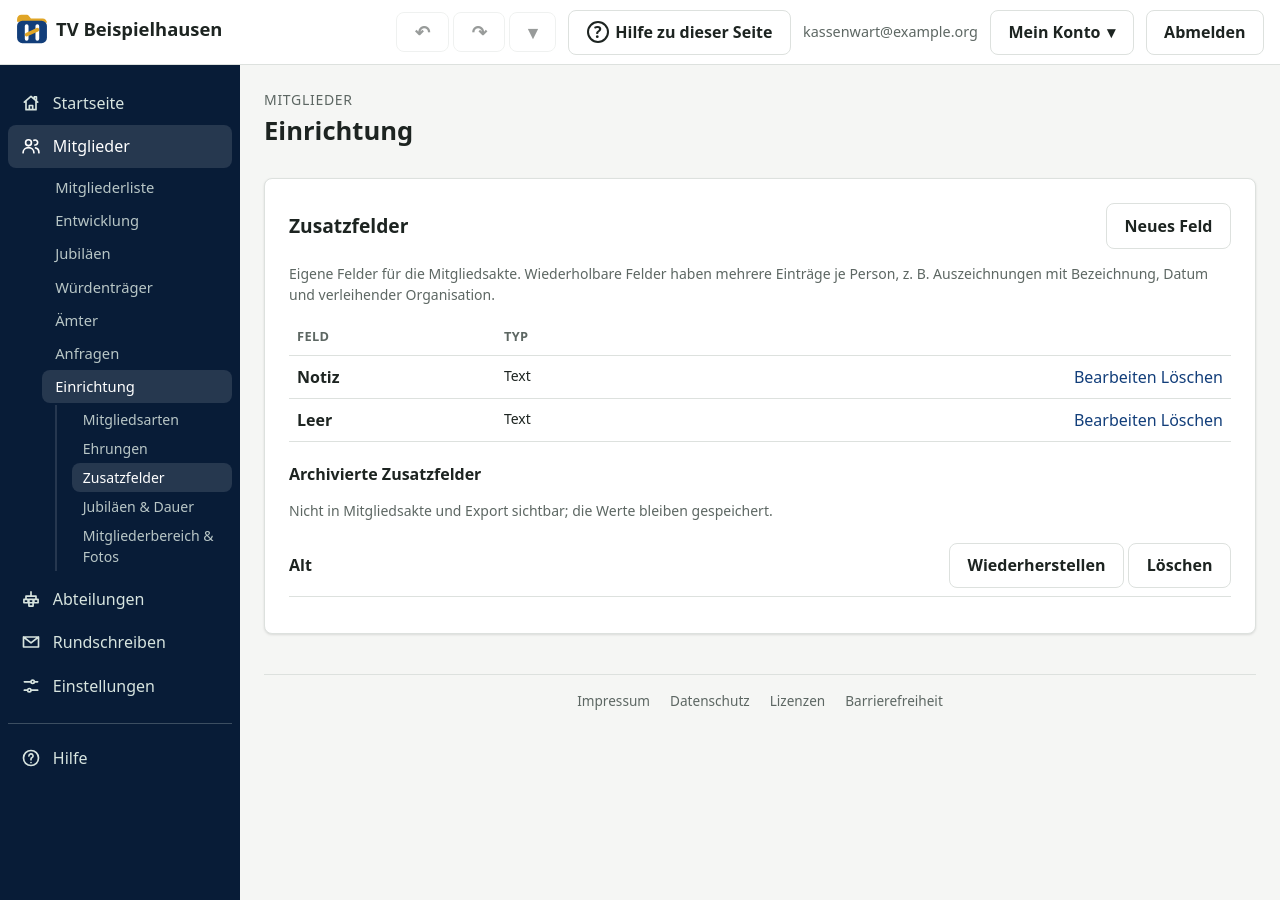
Test: Zusatzfelder löschen › archiviert, löscht unbenutzte Felder und stellt wieder her
Step 1. Click the button with aria-label "Notiz löschen" → (1192, 377), box [1161,365,1223,389]
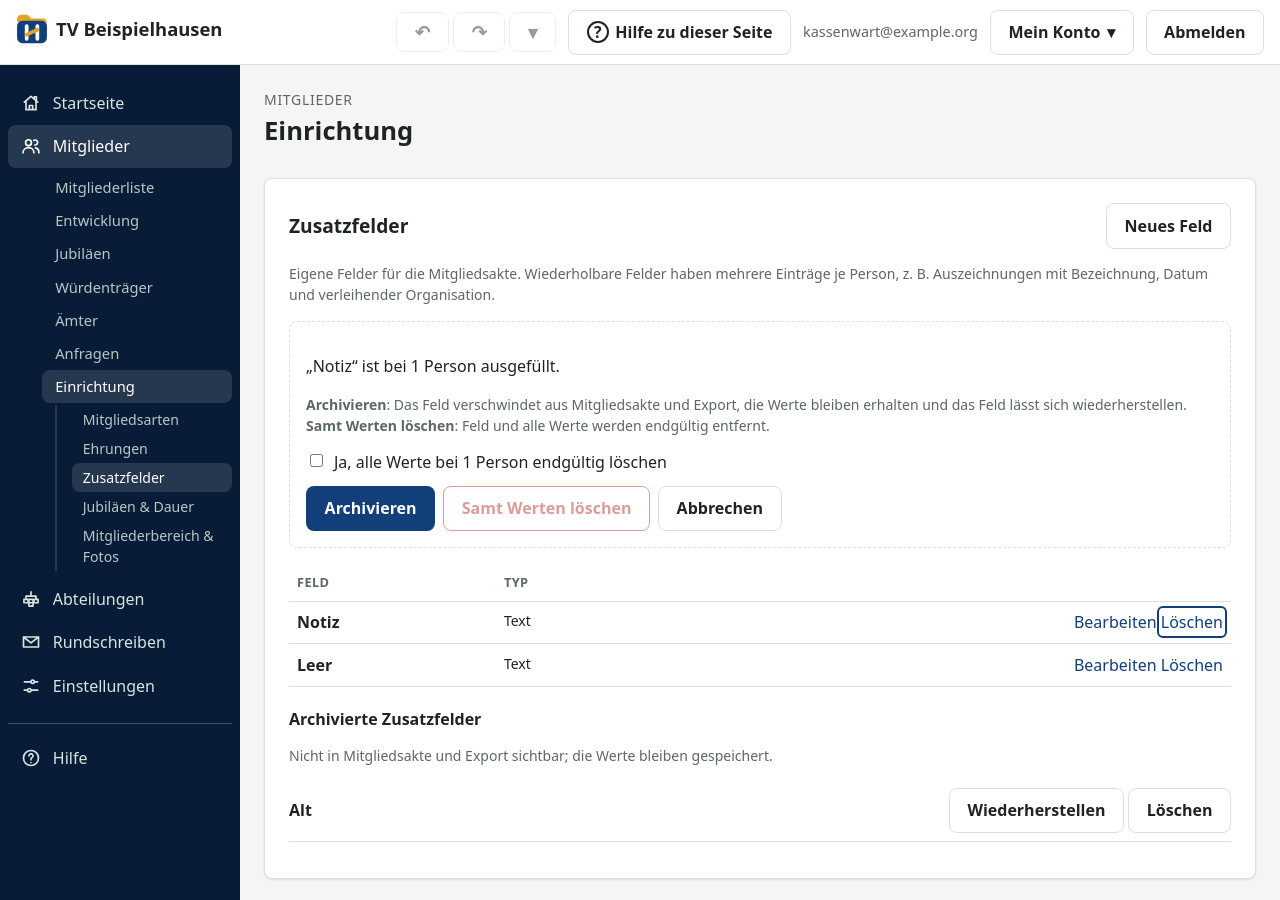
Step 2. Click the button "Archivieren" → (371, 508), box [306,486,435,531]
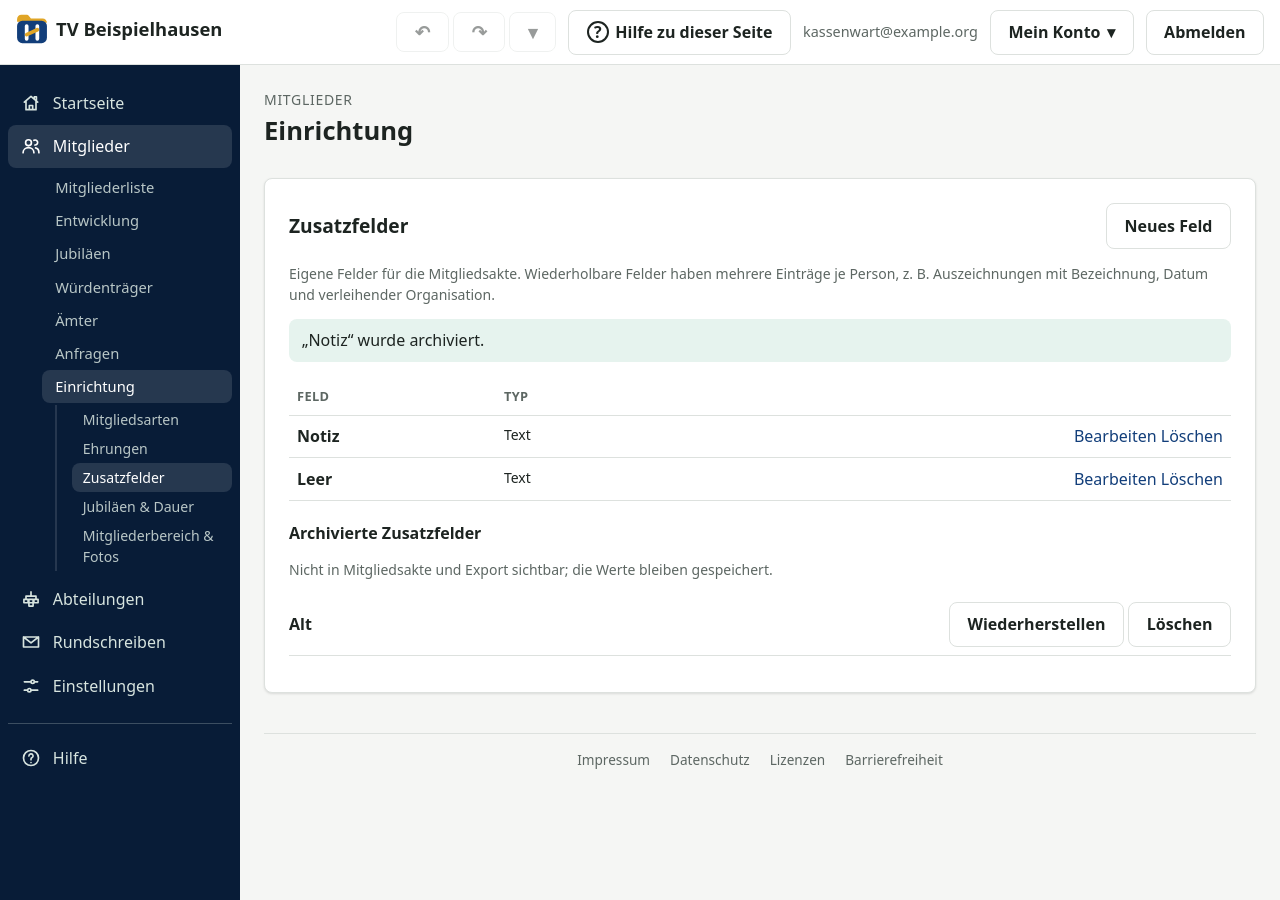
Expected: the text "„Notiz“ wurde archiviert." is shown, [289,318,1231,362]
Step 3. Click the button with aria-label "Leer löschen" → (1192, 479), box [1161,467,1223,491]
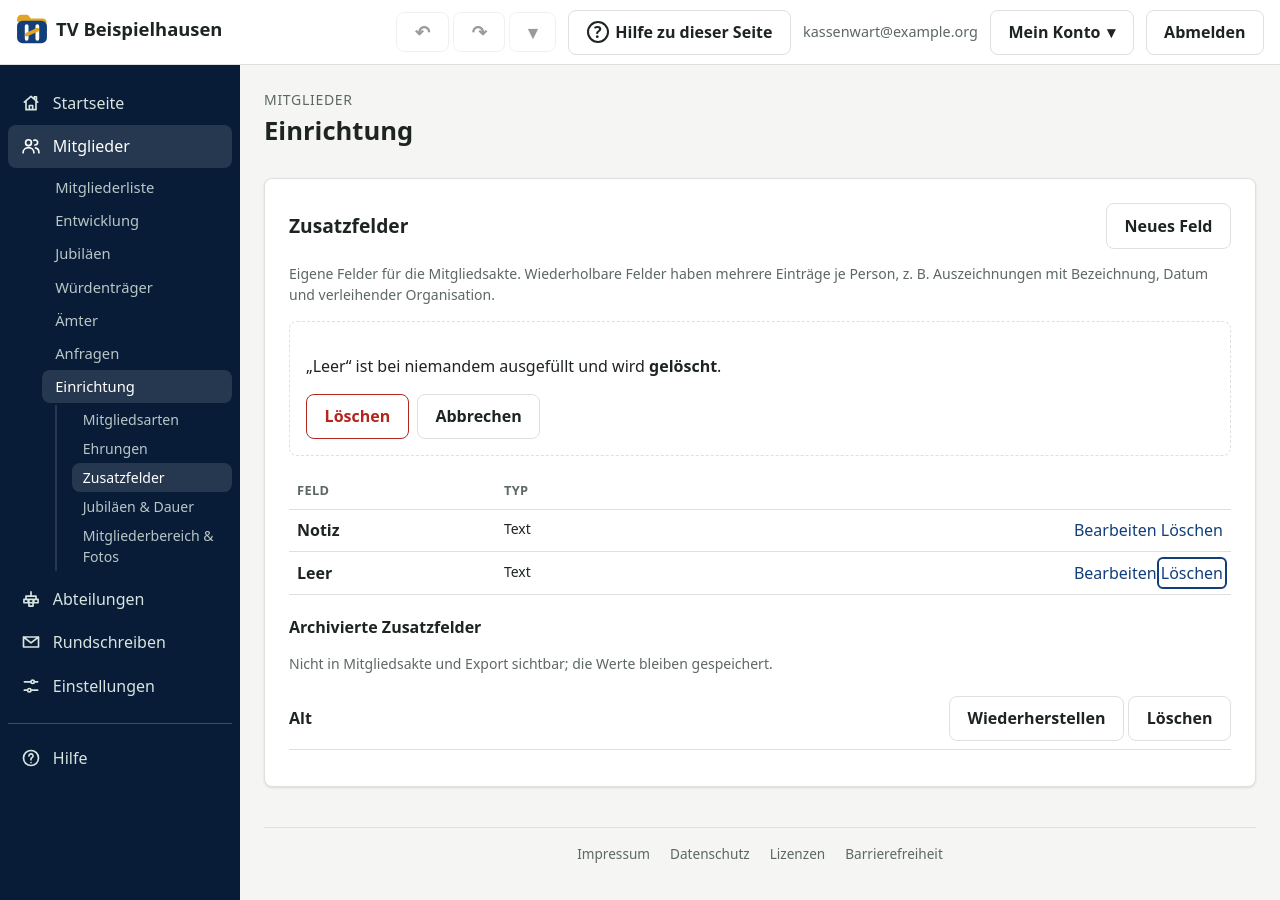
Expected: the text "„Leer“ ist bei niemandem ausgefüllt und wird gelöscht." is shown, [306,354,721,376]
Step 4. Click the button "Löschen" below "gelöscht" → (357, 416), box [306,394,409,439]
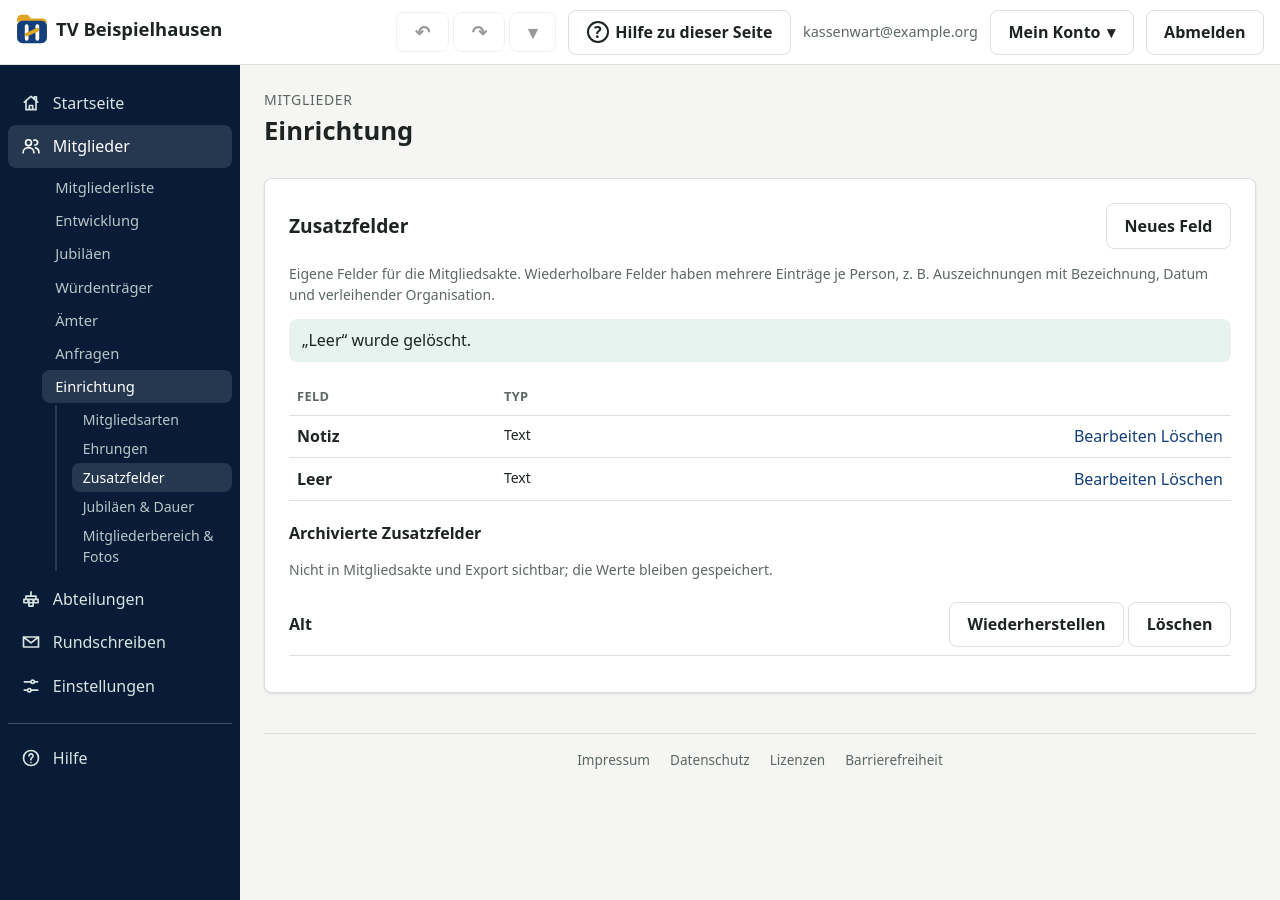
Expected: the text "„Leer“ wurde gelöscht." is shown, [289,318,1231,362]
Step 5. Click the button "Wiederherstellen" → (1036, 624), box [949,602,1124,647]
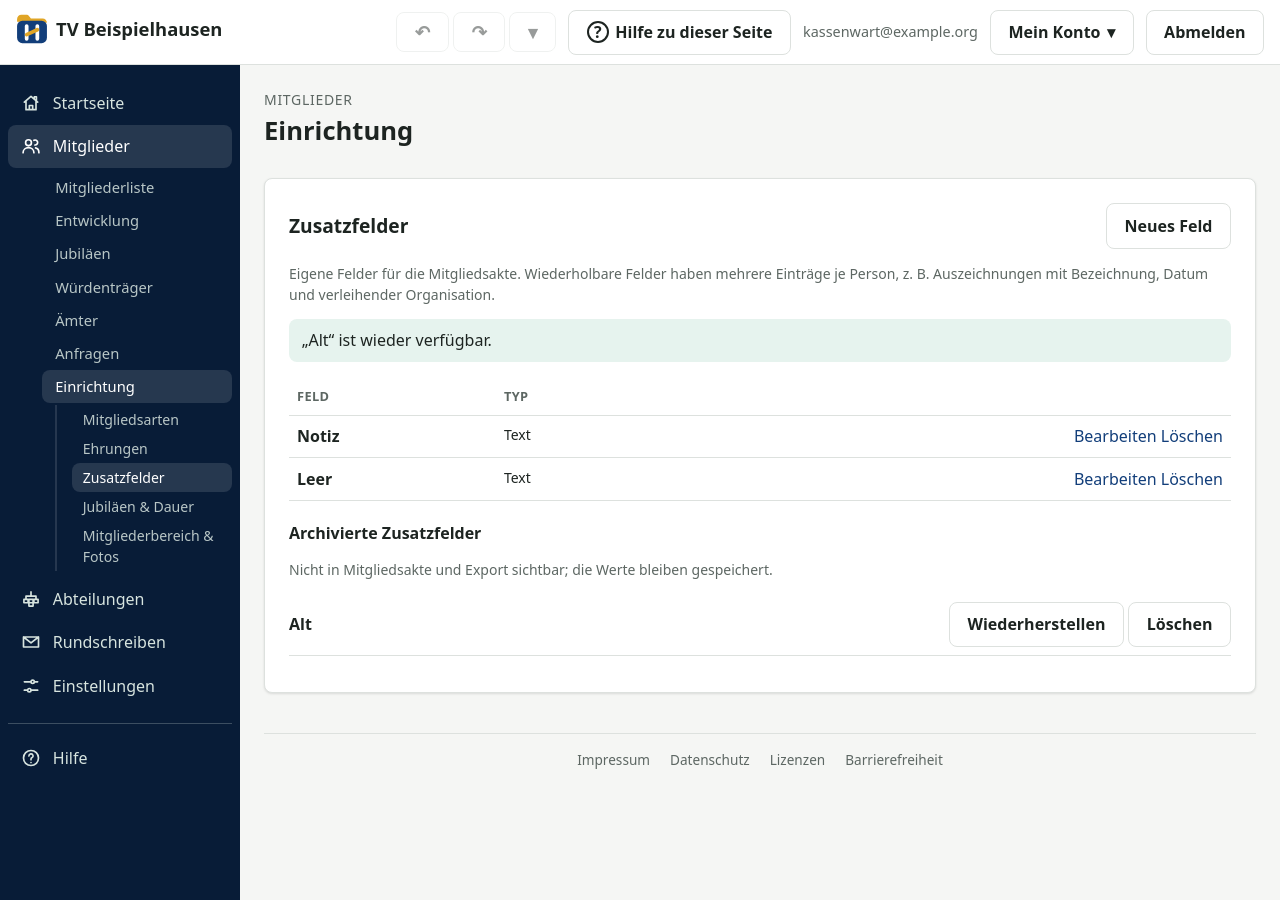
Expected: the text "„Alt“ ist wieder verfügbar." is shown, [289,318,1231,362]
